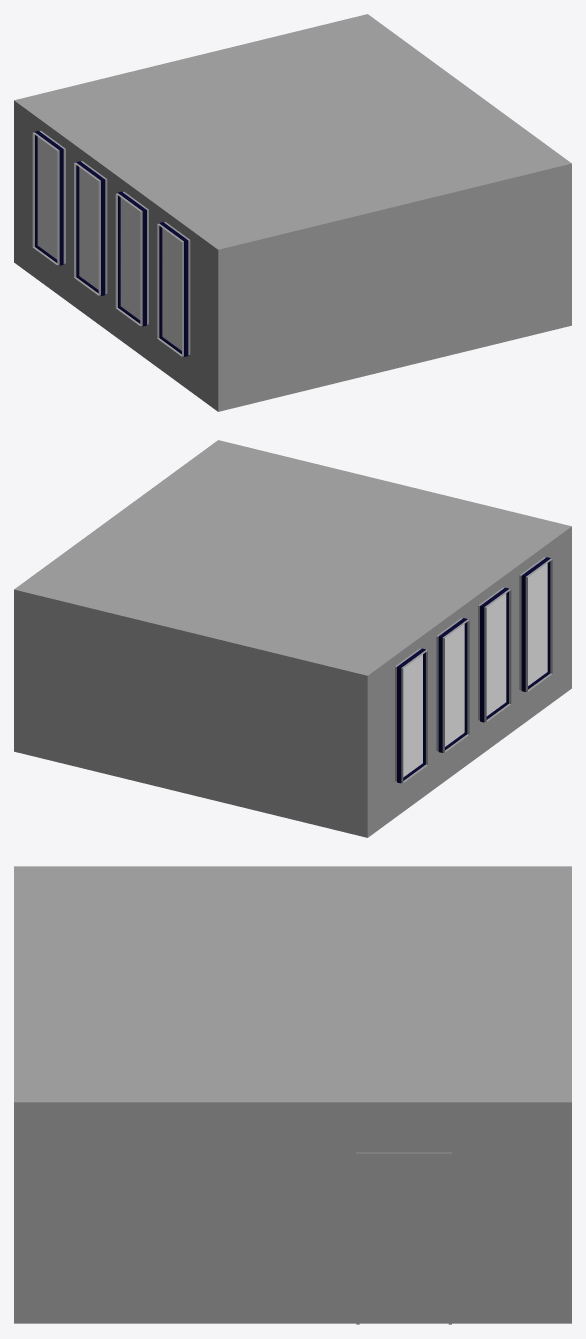
The model's file is decor salle.fbx.
The picture shows the model from 3 angles, top to bottom: view 1: azimuth 30°, elevation 25°; view 2: azimuth 150°, elevation 25°; view 3: azimuth 270°, elevation 25°; orthographic projection. The views are drawn at different scales.
Visible parts, largest first — view 1: salle, Vitre, contour, pleinte; view 2: salle, Vitre, contour, pleinte; view 3: salle, chambranle_Porte, pleinte.
Boxes of the visible parts, left/top/right/bottom form: salle: left=14, top=14, right=571, bottom=411; Vitre: left=37, top=137, right=181, bottom=350; contour: left=35, top=130, right=188, bottom=356; pleinte: left=14, top=259, right=571, bottom=411; salle: left=14, top=440, right=571, bottom=837; Vitre: left=403, top=563, right=547, bottom=777; contour: left=397, top=557, right=550, bottom=783; pleinte: left=38, top=688, right=571, bottom=837; salle: left=14, top=866, right=571, bottom=1323; chambranle_Porte: left=356, top=1152, right=451, bottom=1324; pleinte: left=14, top=1318, right=571, bottom=1323.
Size of the model in its own units: 1495 by 637 by 1455.
